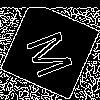M: (25, 25, 83, 81)
